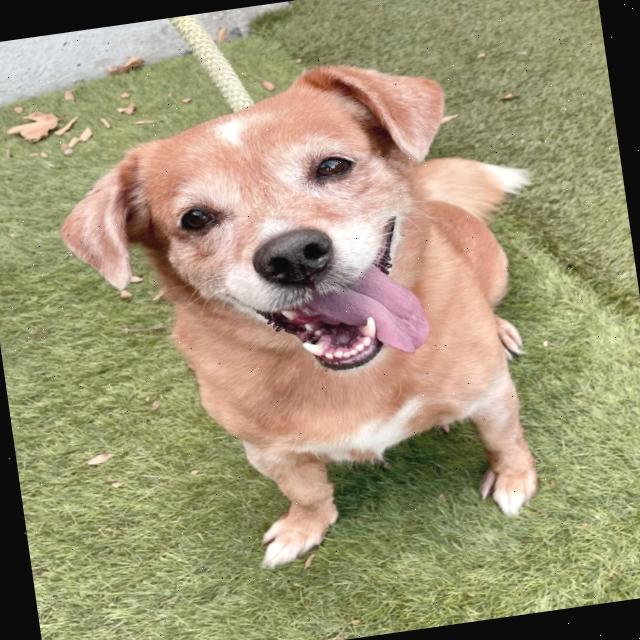corgi_dog: (41, 38, 491, 412)
